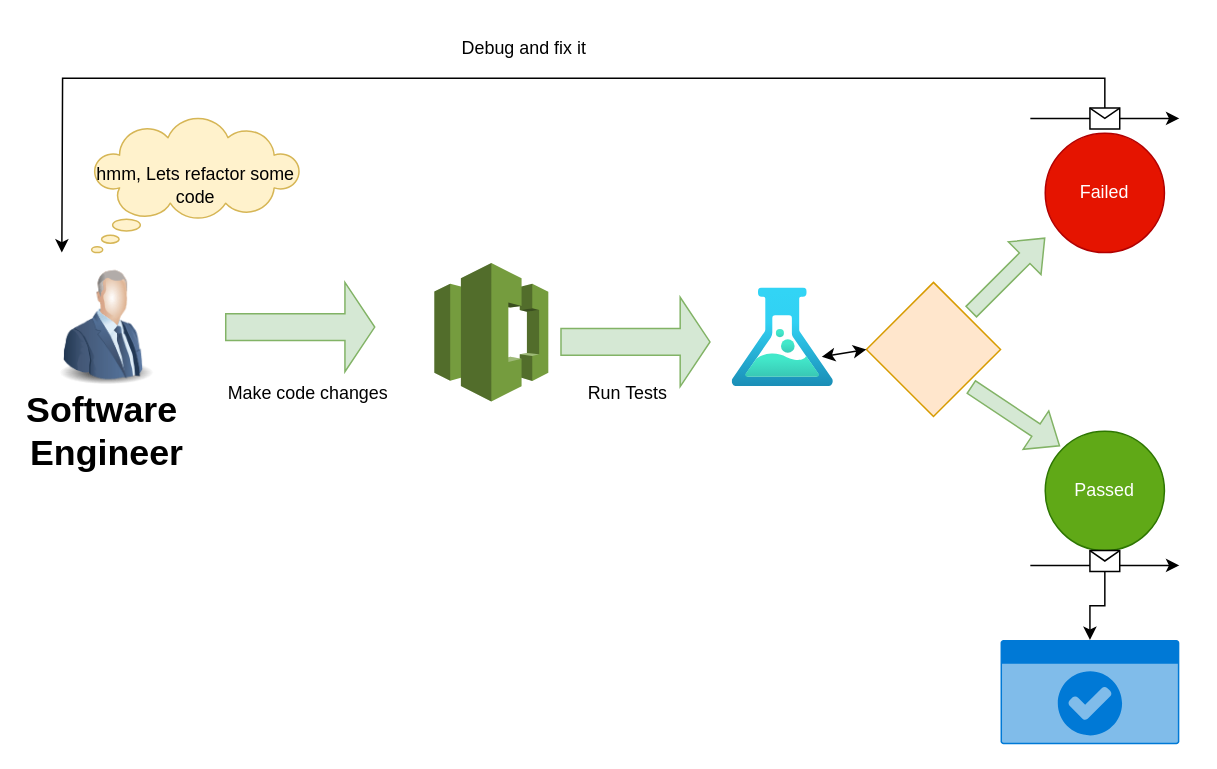
Some shapes in this 1217 by 769 pixel diagram are drawn without their labels. The shapes that lost their labels are listed below. From the top down, each one's box as (x1, y1, x2, y2) in pixels, then its label:
(865, 281, 1001, 416): Test passed?
(1000, 639, 1179, 744): Success
